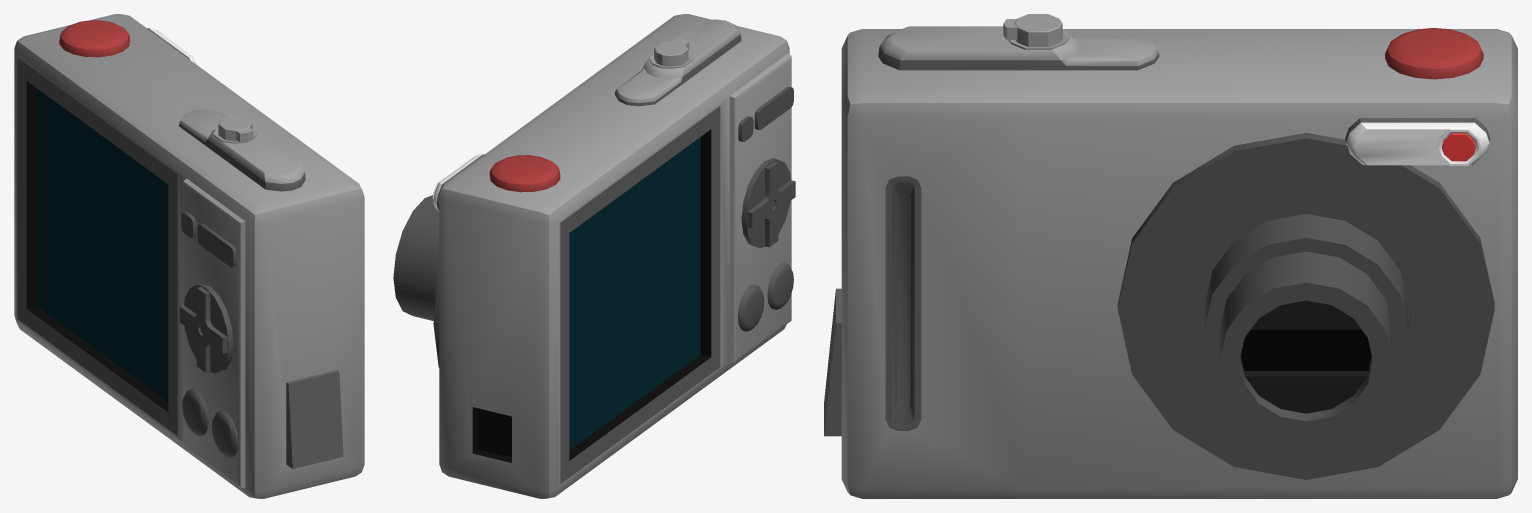
File: Camera_01.glb
3 views of the same model, side by side, from view 1: azimuth 30°, elevation 25°; view 2: azimuth 150°, elevation 25°; view 3: azimuth 270°, elevation 25° (orthographic). The views are drawn at different scales.
Visible parts, largest first — view 1: Mesh_Camera_01; view 2: Mesh_Camera_01; view 3: Mesh_Camera_01.
Boxes of the visible parts, box(x1,y1,x2,y2) form: Mesh_Camera_01: box(14, 14, 364, 498); Mesh_Camera_01: box(393, 14, 795, 498); Mesh_Camera_01: box(824, 14, 1517, 498).
Size of the model in its own units: 0.0617 by 0.0864 by 0.1231.
1 material, 1 textured.
